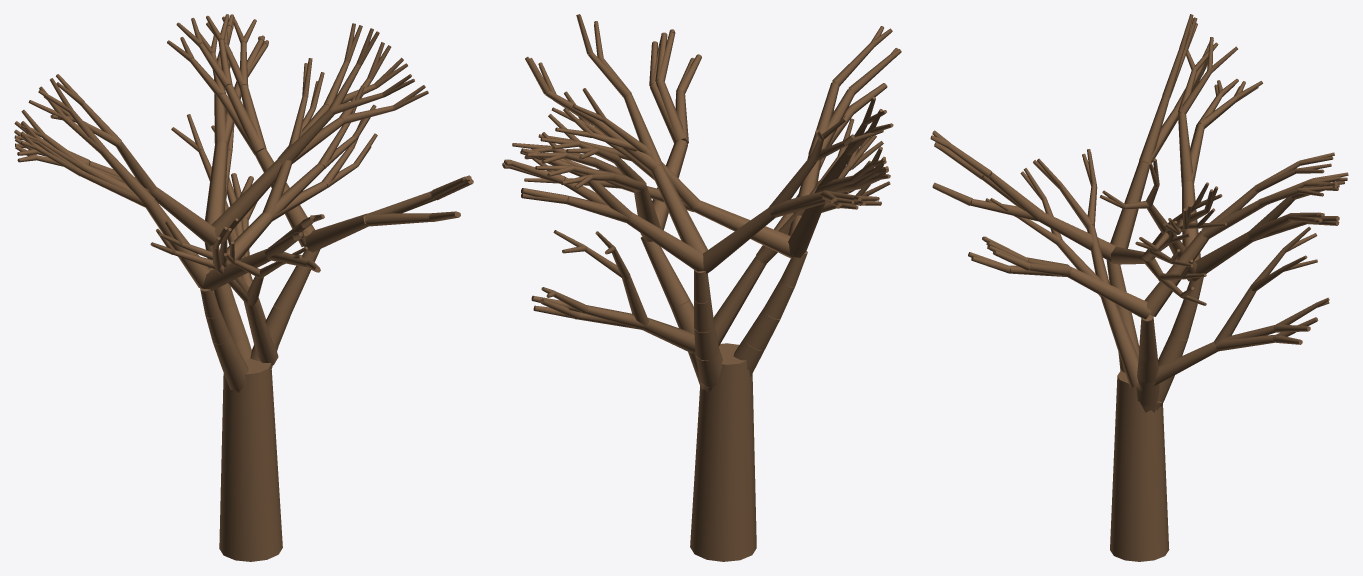
The model's file is korte-tel.glb.
The picture shows the model from 3 angles, left to right: view 1: azimuth 30°, elevation 25°; view 2: azimuth 150°, elevation 25°; view 3: azimuth 270°, elevation 25°; orthographic projection. The views are drawn at different scales.
Visible parts, largest first — view 1: torzs, gally-0-1, gally-9-2 (×2), gally-8-1, gally-4-1, gally-5-1, gally-2-1, gally-3-1, gally-1-1, gally-9-1, gally-6-2, gally-0-2 (+8 smaller); view 2: torzs, gally-0-1, gally-9-1, gally-3-1, gally-8-1, gally-4-1, gally-0-2 (×2), gally-7-2 (×2), gally-8-2 (×2), gally-1-2 (×2), gally-5-1, gally-7-1 (+17 smaller); view 3: torzs, gally-3-1, gally-5-1, gally-2-1, gally-7-2 (×2), gally-1-2 (×2), gally-6-1, gally-1-1, gally-7-1, gally-8-1, gally-4-2, gally-5-2 (+5 smaller).
Part boxes in pixels (x1,y1,x2,y2): torzs: [219, 357, 282, 561]; gally-0-1: [211, 159, 281, 243]; gally-9-2 (×2): [263, 144, 324, 218]; gally-8-1: [205, 141, 227, 224]; gally-4-1: [151, 187, 216, 246]; gally-5-1: [146, 199, 210, 288]; gally-2-1: [304, 213, 367, 252]; gally-3-1: [245, 301, 278, 365]; gally-1-1: [201, 248, 271, 290]; gally-9-1: [208, 212, 272, 270]; gally-6-2: [224, 84, 265, 153]; gally-0-2: [278, 108, 334, 164]; torzs: [690, 343, 756, 561]; gally-0-1: [651, 165, 707, 253]; gally-9-1: [693, 200, 793, 258]; gally-3-1: [713, 256, 766, 345]; gally-8-1: [626, 212, 703, 271]; gally-4-1: [703, 208, 775, 273]; gally-0-2 (×2): [592, 94, 662, 171]; gally-7-2 (×2): [584, 275, 648, 327]; gally-8-2 (×2): [566, 175, 632, 222]; gally-1-2 (×2): [808, 82, 854, 154]; gally-5-1: [788, 188, 824, 257]; gally-7-1: [642, 318, 695, 353]; torzs: [1110, 370, 1169, 561]; gally-3-1: [1100, 296, 1138, 387]; gally-5-1: [1110, 161, 1149, 248]; gally-2-1: [1067, 266, 1151, 319]; gally-7-2 (×2): [1214, 287, 1275, 351]; gally-1-2 (×2): [970, 172, 1043, 221]; gally-6-1: [1144, 231, 1209, 316]; gally-1-1: [1039, 212, 1115, 263]; gally-7-1: [1135, 341, 1219, 392]; gally-8-1: [1192, 232, 1253, 281]; gally-4-2: [1178, 112, 1193, 182]; gally-5-2: [1139, 95, 1169, 163].
Size of the model in its own units: 2.83 by 3.59 by 2.96.
